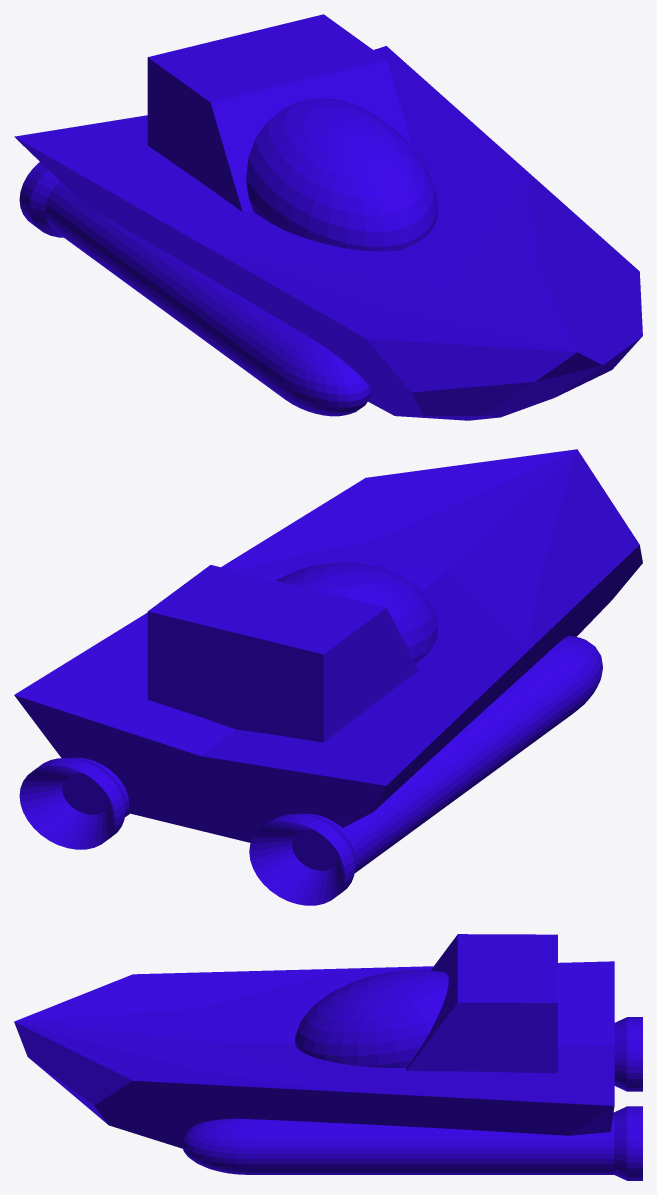
File: AW_car_third.fbx
3 renders of one model, top to bottom at view 1: azimuth 30°, elevation 25°; view 2: azimuth 150°, elevation 25°; view 3: azimuth 270°, elevation 25°, orthographic. The views are drawn at different scales.
Parts seen in each view (by area): view 1: Cube; view 2: Cube; view 3: Cube.
Boxes of the visible parts, x1,y1,x2,y2 form: Cube: [14, 14, 642, 420]; Cube: [14, 449, 642, 905]; Cube: [14, 934, 642, 1180].
Bounding box in the file's own units: 1.22 × 2.25 × 0.7295.
